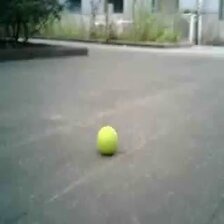tennis: (96, 126, 117, 153)
